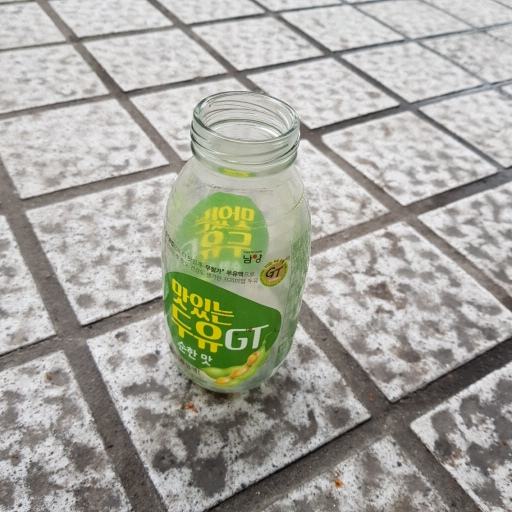Glass_4: (158, 90, 315, 397)
